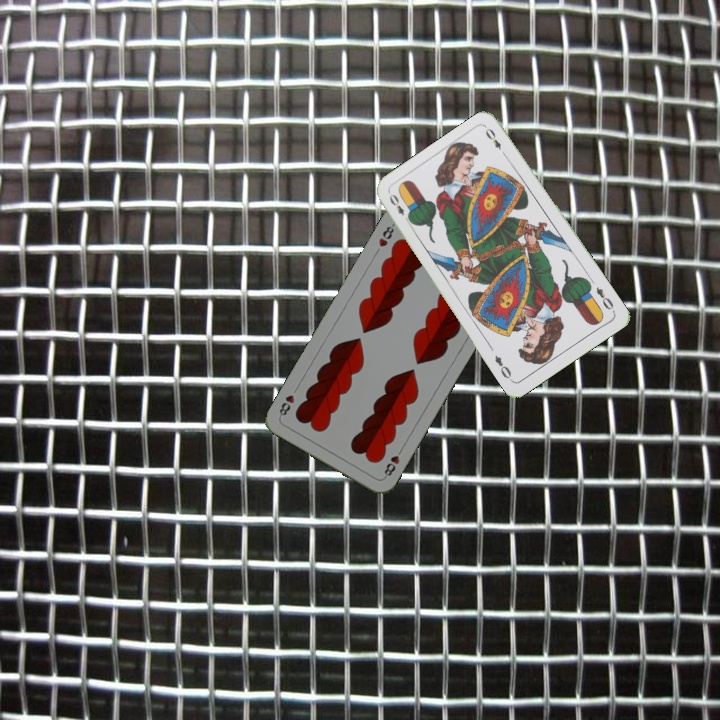EO: (385, 190, 413, 226), (592, 283, 616, 313)
H8: (380, 444, 406, 481), (374, 220, 397, 250)
